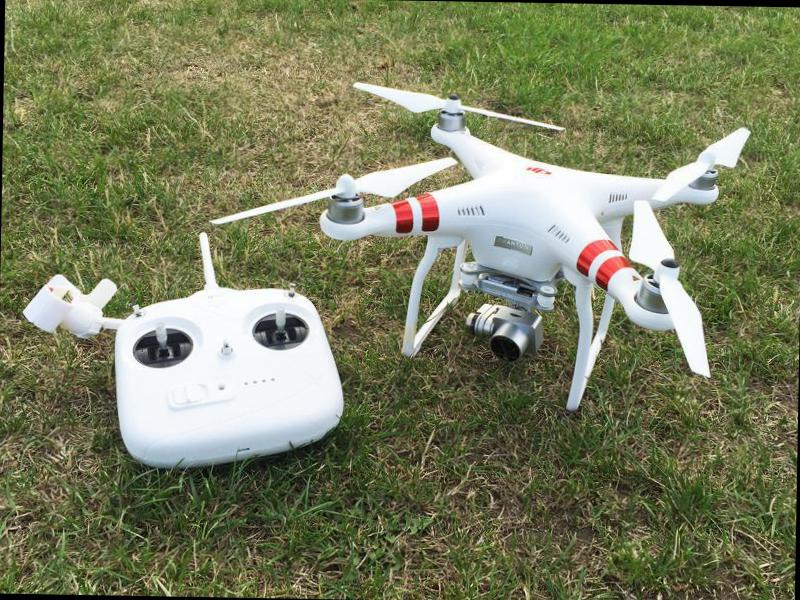drone: (309, 75, 743, 414)
